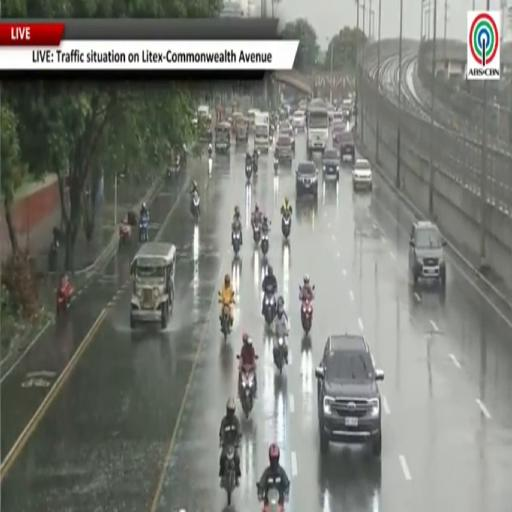car: (316, 334, 384, 457), (409, 220, 446, 289), (296, 162, 318, 197), (352, 158, 372, 190), (337, 132, 355, 162), (322, 149, 339, 180), (276, 134, 293, 163), (279, 125, 294, 152), (332, 121, 346, 145), (292, 110, 305, 132), (333, 110, 344, 123), (327, 104, 334, 122)
jeepney: (130, 242, 176, 328), (198, 105, 212, 141), (215, 122, 230, 153), (198, 117, 212, 141), (231, 111, 243, 135), (236, 118, 248, 142), (248, 108, 259, 133)
motorcycle: (221, 444, 236, 506), (239, 365, 254, 419), (56, 280, 73, 315), (264, 488, 284, 511), (273, 336, 285, 374), (264, 291, 276, 326), (301, 297, 312, 333), (301, 299, 312, 334), (48, 239, 59, 271), (221, 304, 230, 341), (119, 221, 131, 244), (231, 230, 241, 256), (191, 194, 200, 222), (139, 216, 148, 242), (282, 214, 291, 239), (261, 232, 269, 257), (253, 222, 261, 245), (246, 164, 252, 181), (253, 158, 258, 175), (274, 158, 278, 174), (209, 156, 212, 174)
truck: (307, 101, 329, 157), (254, 112, 269, 153)
